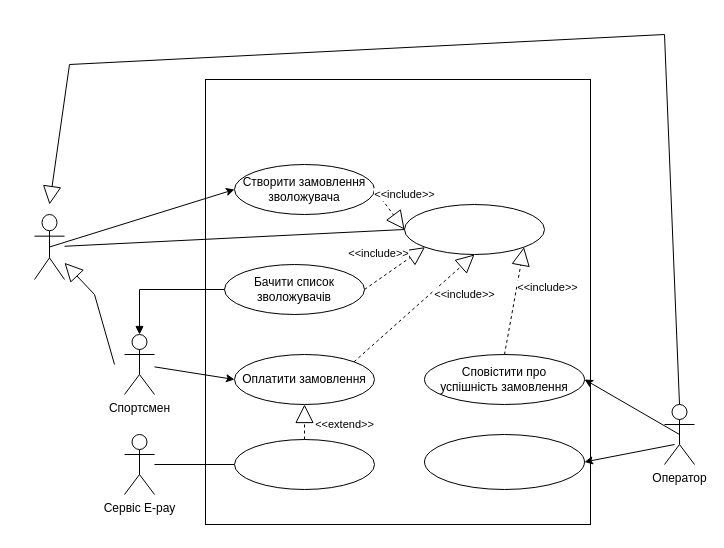
The diagram is 724 pixels wide and 548 high, and some of its shapes have lost their labels. Each missing label, with the centre of its shape:
E-pay сплата: the point at 304,464
Авторизувати користувача: the point at 474,229
Відправляти зволожувач: the point at 504,462
Користувач: the point at 49,247
